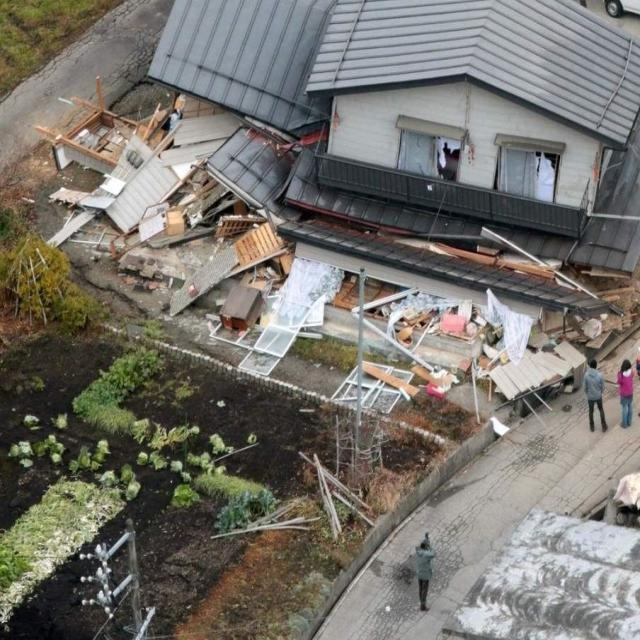collapsed_building: (166, 1, 640, 388)
